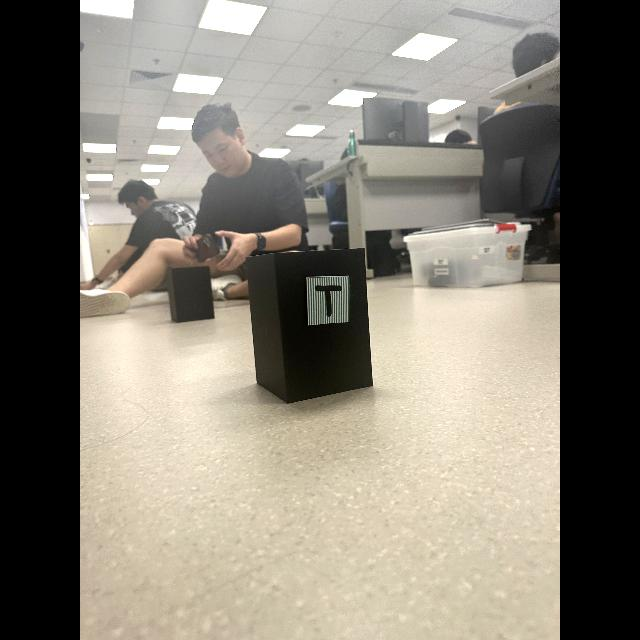T: (315, 285, 342, 317)
